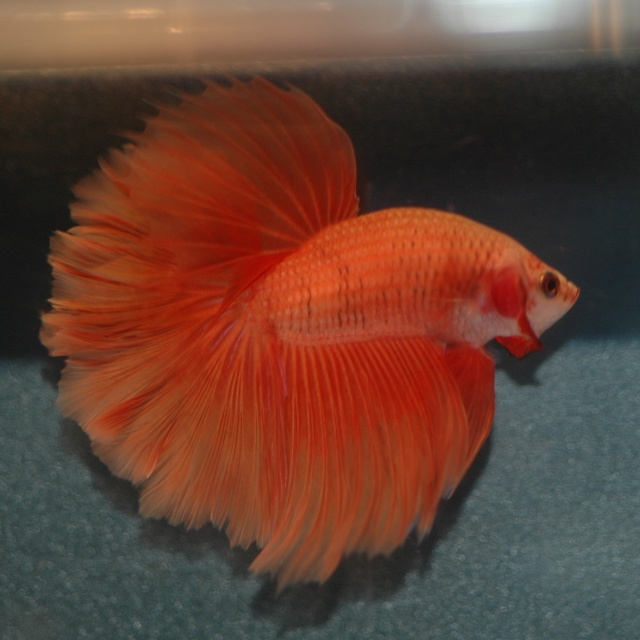Goldfish: (0, 134, 591, 595)
